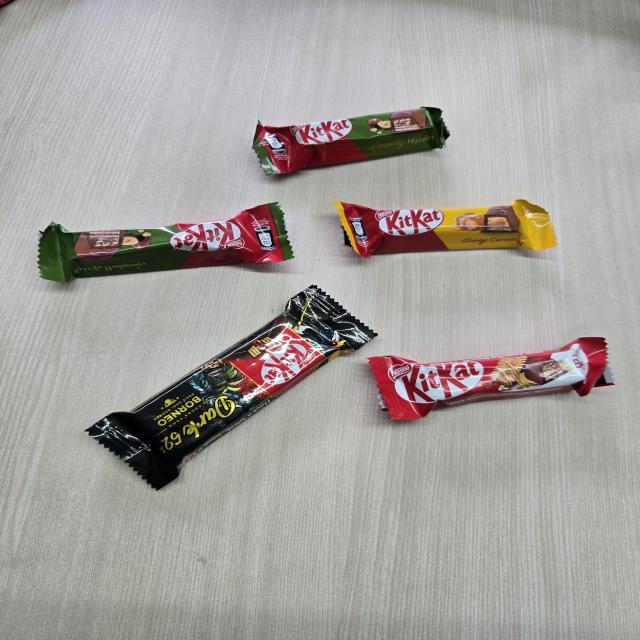chocolate-bar: (60, 287, 373, 500), (19, 201, 304, 285), (361, 341, 624, 422), (240, 104, 457, 188), (326, 196, 572, 266)
